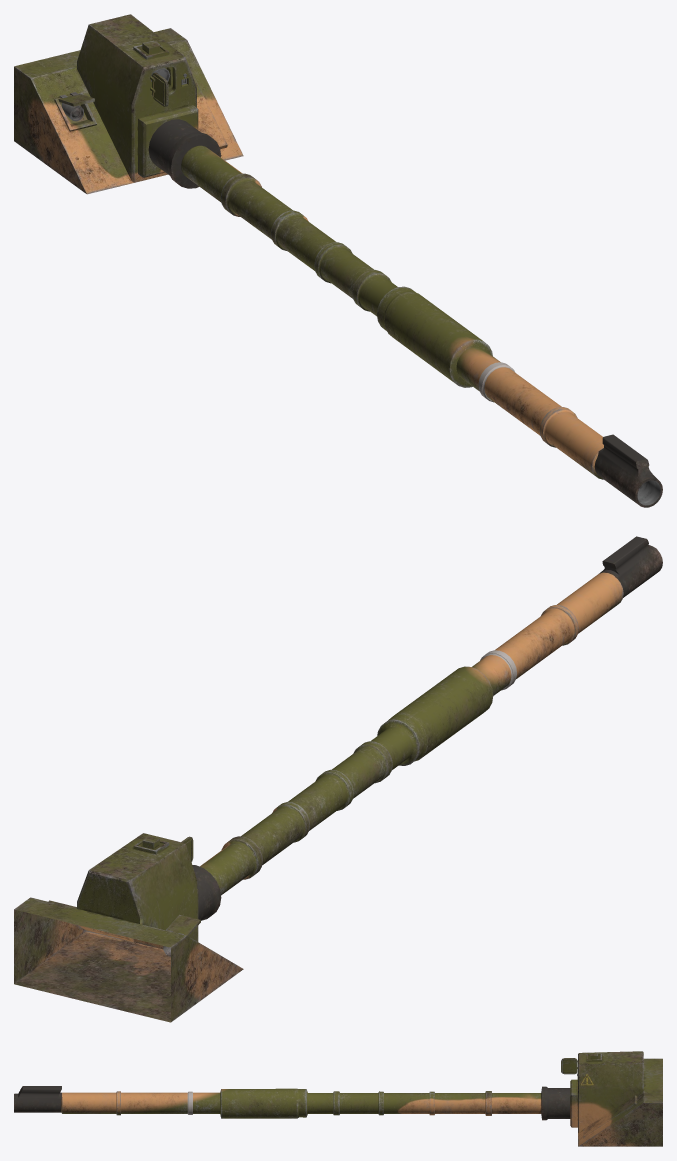
The model's file is tank_gun.glb.
The picture shows the model from 3 angles, top to bottom: view 1: azimuth 30°, elevation 25°; view 2: azimuth 150°, elevation 25°; view 3: azimuth 270°, elevation 25°; orthographic projection. The views are drawn at different scales.
Visible parts, largest first — view 1: barrel_barrrel_0; view 2: barrel_barrrel_0; view 3: barrel_barrrel_0.
Boxes of the visible parts, x1,y1,x2,y2 form: barrel_barrrel_0: [14, 14, 662, 507]; barrel_barrrel_0: [14, 536, 662, 1022]; barrel_barrrel_0: [14, 1051, 662, 1146].
Size of the model in its own units: 1.04 by 0.767 by 6.41.
Materials: 1 (1 with a texture image).
